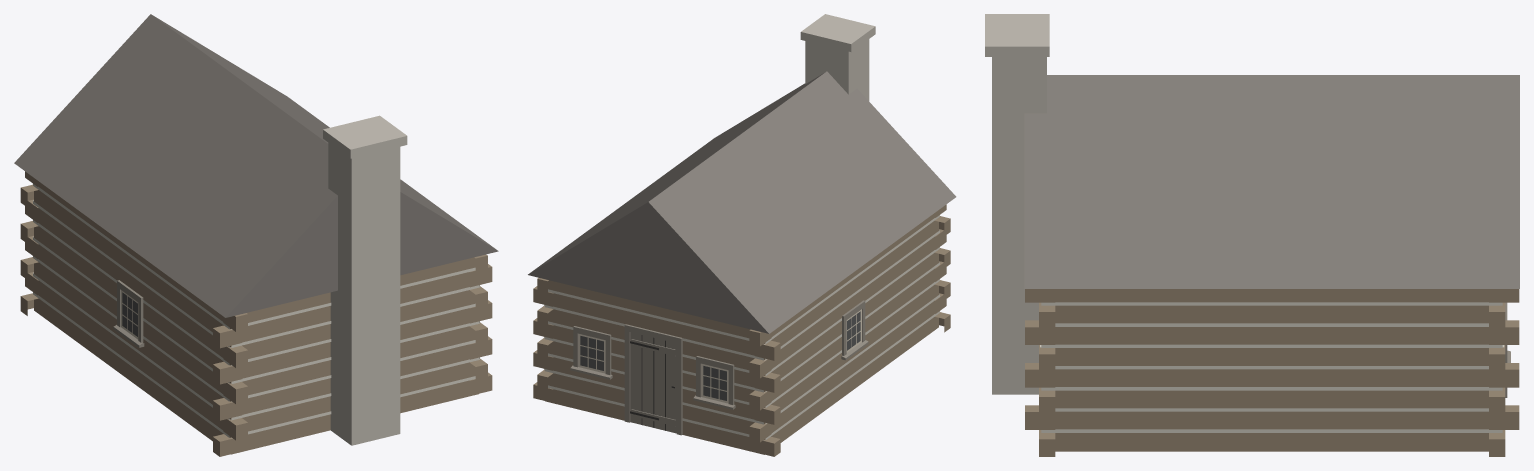
File: recon_1835_west_039__inferred_1835.glb
3 renders of one model, left to right at view 1: azimuth 30°, elevation 25°; view 2: azimuth 150°, elevation 25°; view 3: azimuth 270°, elevation 25°, orthographic. The views are drawn at different scales.
Parts seen in each view (by area): view 1: recon_1835_west_039__inferred_1835; view 2: recon_1835_west_039__inferred_1835; view 3: recon_1835_west_039__inferred_1835.
Part boxes in pixels (bbox=[...]): recon_1835_west_039__inferred_1835: bbox=[14, 14, 498, 456]; recon_1835_west_039__inferred_1835: bbox=[528, 14, 956, 456]; recon_1835_west_039__inferred_1835: bbox=[985, 14, 1519, 456].
Size of the model in its own units: 5.38 by 5.62 by 7.78.
